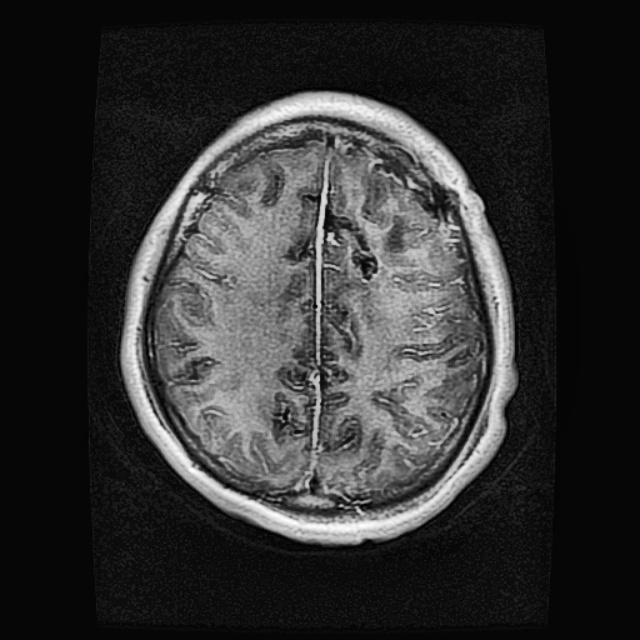Glioma: (359, 153, 444, 252)
